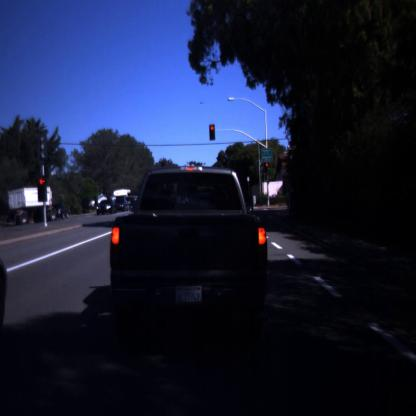trafficlight: (262, 154, 274, 188), (36, 176, 49, 201), (206, 120, 218, 144)
